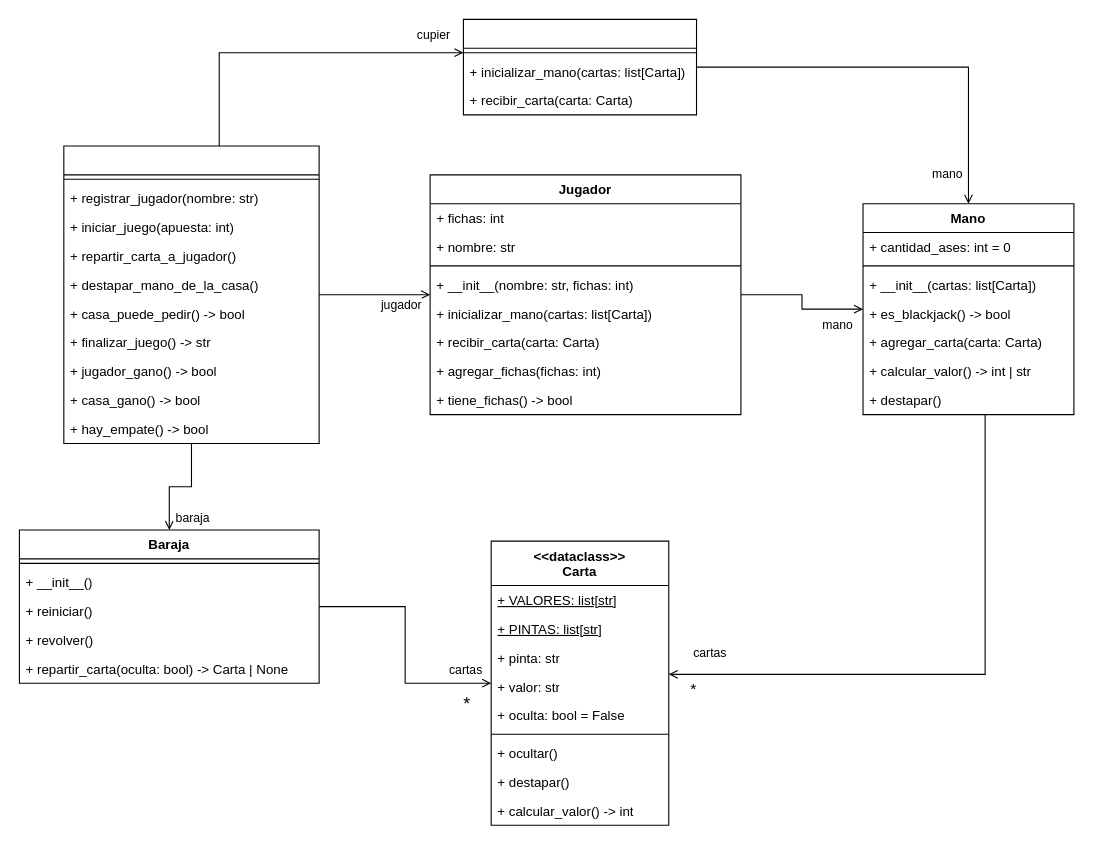
Image size: 1093x848. Some labels were removed from this diagram. Here are the shapes that lost their labels. From the top down, the box of each, then its label:
(462, 18, 697, 115): Casa
(63, 145, 319, 443): Blackjack
